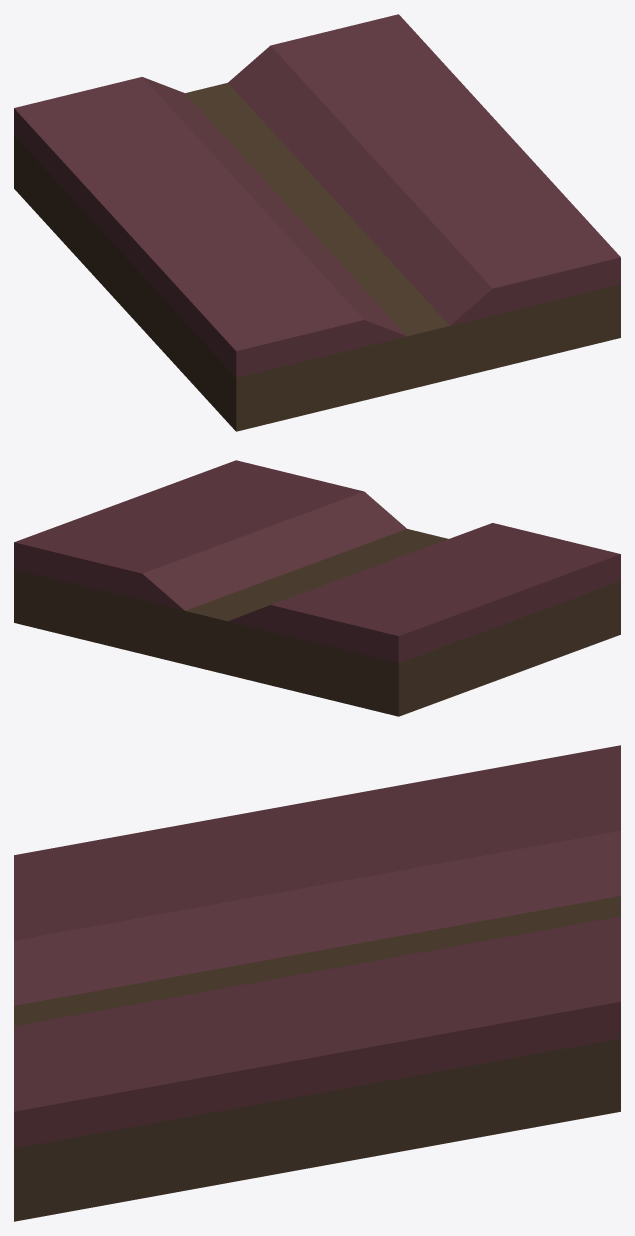
Rendered from tiles-tile-river-basin-hill.glb.
The picture shows the model from 3 angles, top to bottom: view 1: azimuth 30°, elevation 25°; view 2: azimuth 150°, elevation 25°; view 3: azimuth 270°, elevation 25°; orthographic projection. The views are drawn at different scales.
Visible parts, largest first — view 1: tile-river-basin-hill; view 2: tile-river-basin-hill; view 3: tile-river-basin-hill.
Boxes of the visible parts, bbox=[...] form: tile-river-basin-hill: bbox=[14, 14, 620, 431]; tile-river-basin-hill: bbox=[14, 460, 620, 716]; tile-river-basin-hill: bbox=[14, 745, 620, 1221].
Bounding box in the file's own units: 30 × 12 × 30.
